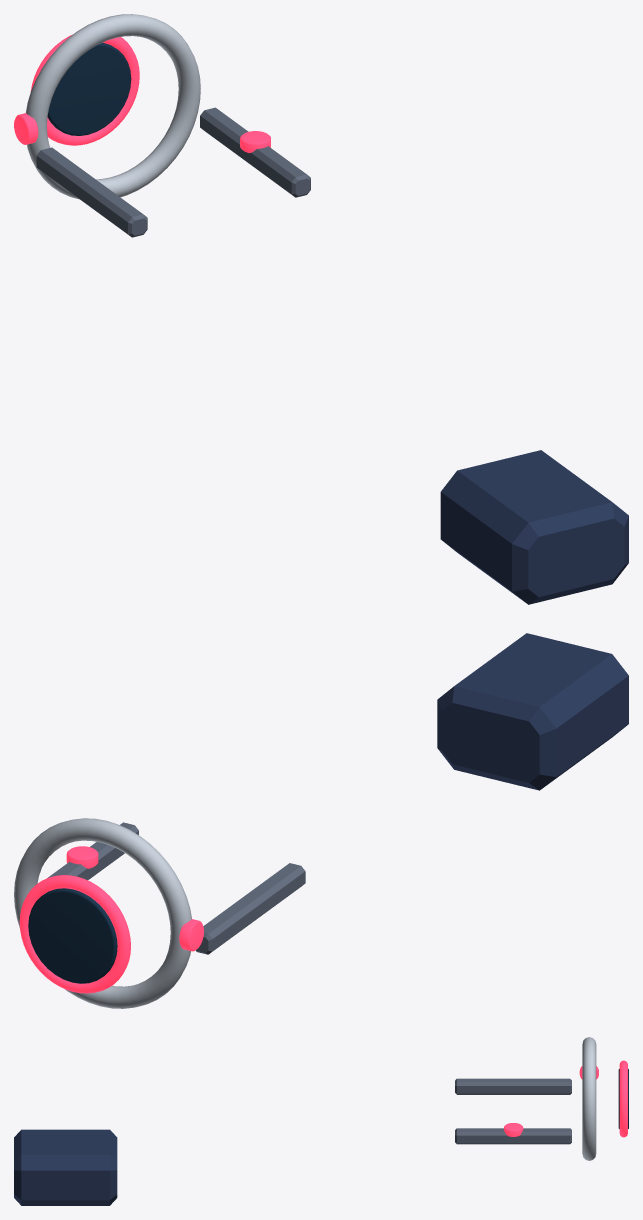
The model's file is tower_filament_peak_s5.glb.
3 views of the same model, one above another, from view 1: azimuth 30°, elevation 25°; view 2: azimuth 150°, elevation 25°; view 3: azimuth 270°, elevation 25° (orthographic). The views are drawn at different scales.
Visible parts, largest first — view 1: filament_coupler, filament_aperture_ring, filament_lens_b, filament_lens_brace_r, filament_lens_brace_l, filament_lens_b_ring; view 2: filament_coupler, filament_aperture_ring, filament_lens_b, filament_lens_b_ring, filament_lens_brace_r, filament_lens_brace_l, filament_up_peak_l3_stud, filament_up_peak_l2_stud; view 3: filament_coupler, filament_lens_brace_r, filament_lens_brace_l, filament_aperture_ring, filament_lens_b_ring.
Part boxes in pixels (x1,y1,x2,y2): filament_coupler: [440, 450, 628, 604]; filament_aperture_ring: [26, 14, 200, 199]; filament_lens_b: [47, 42, 131, 135]; filament_lens_brace_r: [36, 147, 147, 237]; filament_lens_brace_l: [200, 107, 310, 197]; filament_lens_b_ring: [30, 34, 139, 145]; filament_coupler: [437, 633, 628, 790]; filament_aperture_ring: [14, 818, 191, 1008]; filament_lens_b: [28, 888, 117, 983]; filament_lens_b_ring: [19, 875, 130, 993]; filament_lens_brace_r: [195, 863, 305, 954]; filament_lens_brace_l: [48, 822, 138, 880]; filament_up_peak_l3_stud: [179, 919, 203, 951]; filament_up_peak_l2_stud: [66, 846, 98, 868]; filament_coupler: [14, 1129, 117, 1205]; filament_lens_brace_r: [455, 1078, 571, 1094]; filament_lens_brace_l: [455, 1128, 571, 1144]; filament_aperture_ring: [582, 1037, 596, 1160]; filament_lens_b_ring: [619, 1060, 627, 1137].
Size of the model in its own units: 0.389 by 0.4836 by 1.79.
